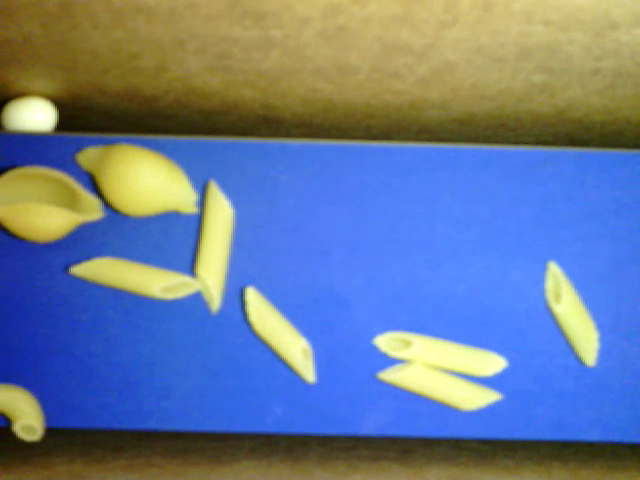elbow: (1, 382, 46, 442)
penne: (243, 284, 316, 384), (373, 327, 510, 377), (374, 359, 503, 412), (543, 259, 600, 369), (69, 255, 202, 300), (194, 178, 235, 314)
shell: (75, 141, 199, 217), (1, 165, 106, 244)
